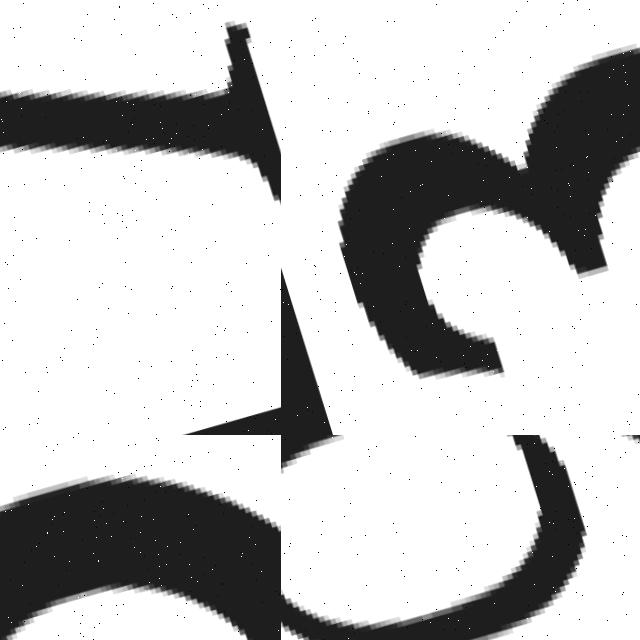1: (0, 0, 281, 367)
3: (294, 0, 640, 435)
9: (281, 435, 640, 640)
O: (0, 470, 281, 640)
